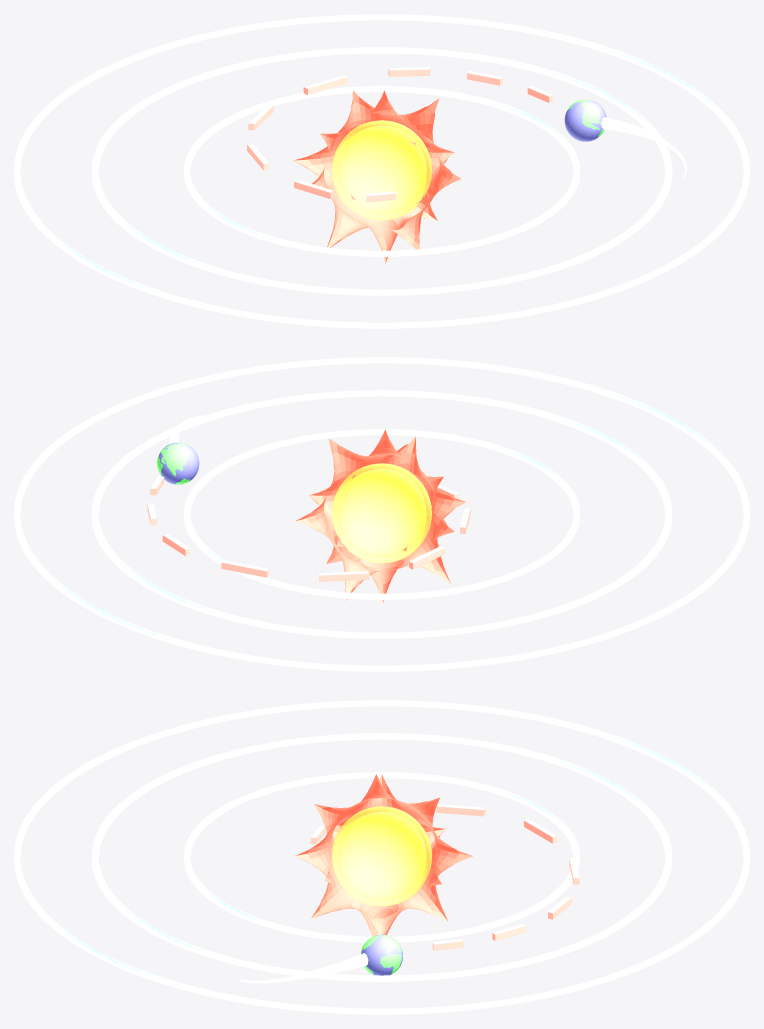
The model's file is sun_model.glb.
3 renders of one model, top to bottom at view 1: azimuth 30°, elevation 25°; view 2: azimuth 150°, elevation 25°; view 3: azimuth 270°, elevation 25°, orthographic.
Visible parts, largest first — view 1: Disks, Sun, Plane.001, Earth, Plane; view 2: Disks, Sun, Plane.001, Earth; view 3: Disks, Sun, Plane.001, Earth, Plane.
Boxes of the visible parts, x1=… form: Disks: x1=14, y1=14, x2=749, y2=328; Sun: x1=293, y1=90, x2=461, y2=263; Plane.001: x1=247, y1=67, x2=553, y2=202; Earth: x1=564, y1=99, x2=606, y2=141; Plane: x1=601, y1=117, x2=686, y2=179; Disks: x1=14, y1=357, x2=749, y2=671; Sun: x1=295, y1=429, x2=466, y2=602; Plane.001: x1=147, y1=476, x2=470, y2=581; Earth: x1=157, y1=442, x2=199, y2=484; Disks: x1=14, y1=700, x2=749, y2=1014; Sun: x1=295, y1=774, x2=472, y2=936; Plane.001: x1=310, y1=804, x2=579, y2=950; Earth: x1=361, y1=934, x2=402, y2=975; Plane: x1=238, y1=953, x2=368, y2=983.
Bounding box in the file's own units: 14.72 × 3.85 × 14.72.
